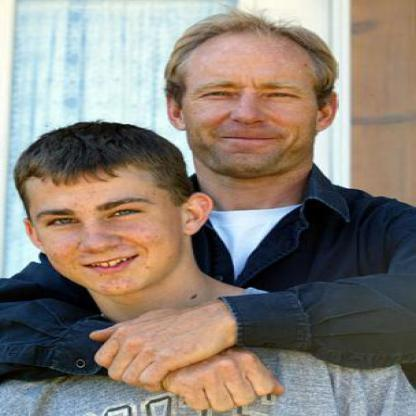face: (26, 127, 182, 297), (183, 24, 324, 178)
